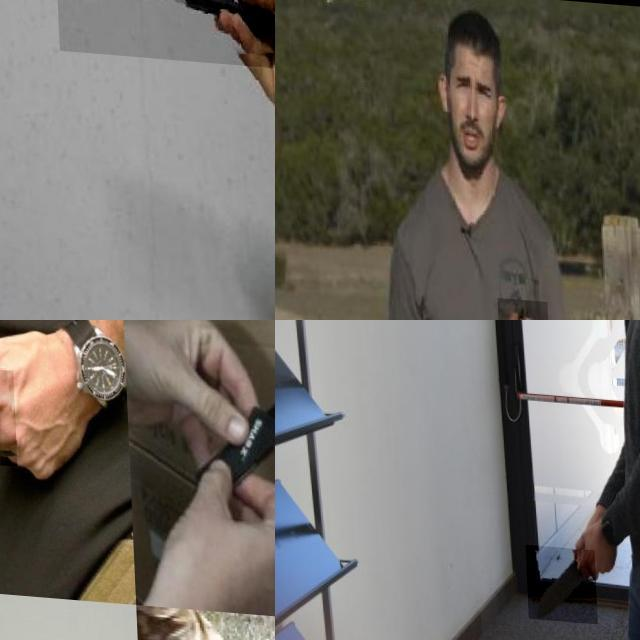-: (53, 0, 275, 68), (199, 337, 275, 498), (0, 358, 74, 463), (522, 541, 592, 619)
